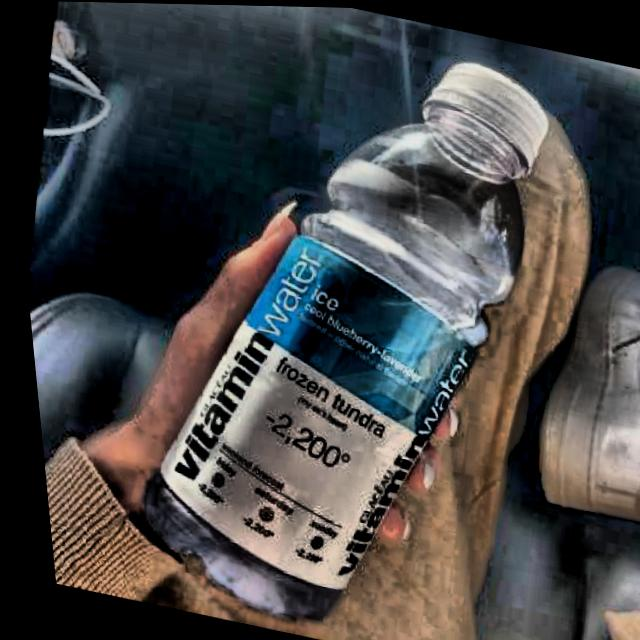Bottles: (69, 1, 640, 640)
